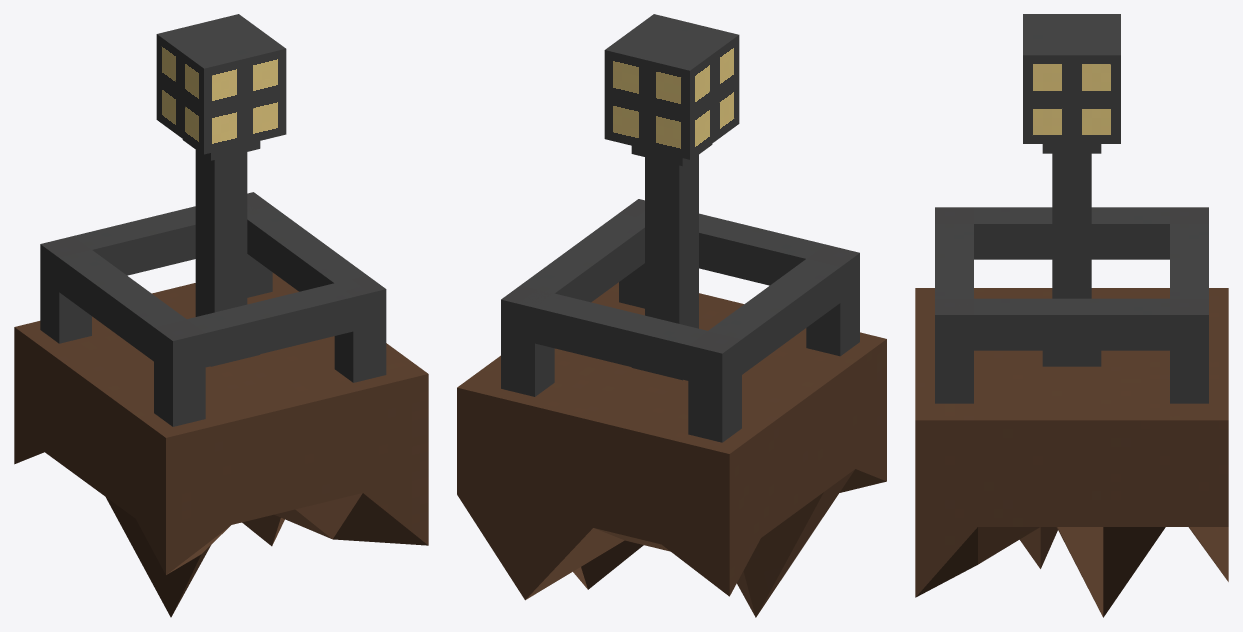
File: planet_brown.gltf
The picture shows the model from 3 angles, left to right: view 1: azimuth 30°, elevation 25°; view 2: azimuth 150°, elevation 25°; view 3: azimuth 270°, elevation 25°; orthographic projection. The views are drawn at different scales.
Visible parts, largest first — view 1: mesh (×11); view 2: mesh (×11); view 3: mesh (×13).
Part boxes in pixels (left/top/right/bottom): mesh (×11): left=14, top=14, right=428, bottom=617; mesh (×11): left=457, top=14, right=886, bottom=617; mesh (×13): left=915, top=14, right=1228, bottom=617.
Size of the model in its own units: 1 by 2 by 1.
Materials: 1 (1 with a texture image).
